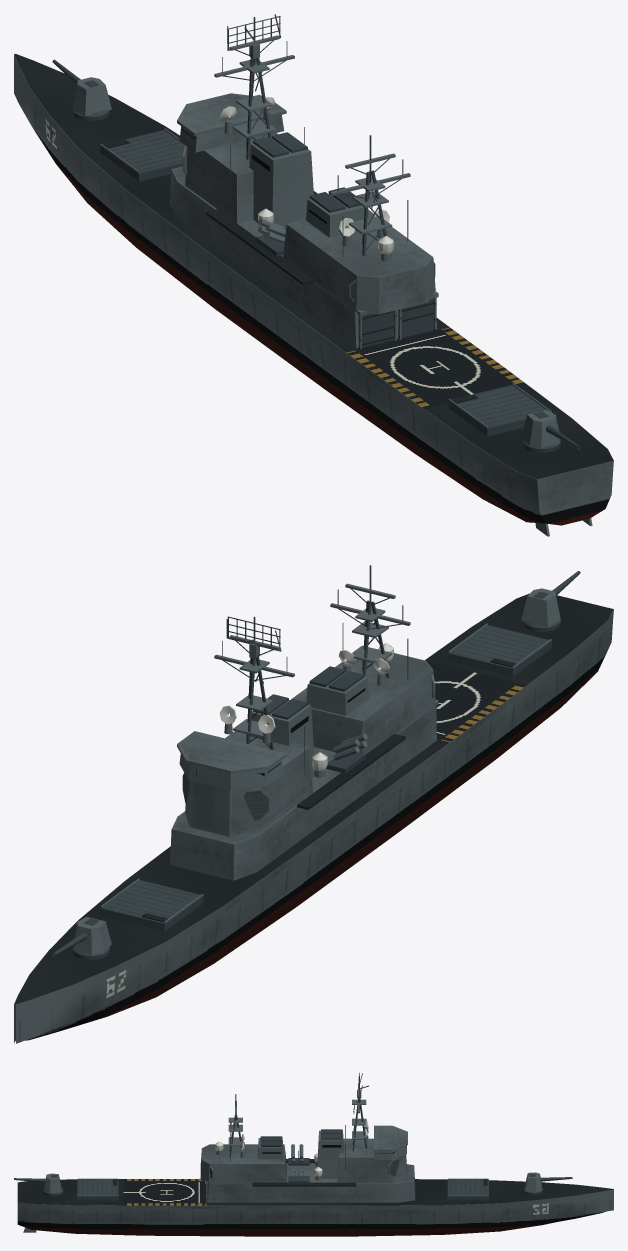
Rendered from missile_cruiser_lod1.glb.
The picture shows the model from 3 angles, top to bottom: view 1: azimuth 30°, elevation 25°; view 2: azimuth 150°, elevation 25°; view 3: azimuth 270°, elevation 25°; orthographic projection. The views are drawn at different scales.
Parts seen in each view (by area): view 1: hull, deck, superstructure, launchers, stacks, masts, radars, hangar, forward_gun, aft_gun; view 2: hull, superstructure, deck, launchers, masts, stacks, radars, aft_gun, forward_gun; view 3: hull, superstructure, deck, launchers, stacks, masts, radars, aft_gun, forward_gun.
Boxes of the visible parts, box(x1,y1,x2,y2) form: hull: box(14, 54, 613, 536); deck: box(14, 54, 613, 479); superstructure: box(170, 115, 437, 348); launchers: box(100, 128, 551, 436); stacks: box(249, 132, 368, 237); masts: box(214, 17, 410, 255); radars: box(182, 14, 435, 301); hangar: box(357, 291, 438, 349); forward_gun: box(52, 59, 111, 120); aft_gun: box(521, 410, 580, 452); hull: box(14, 609, 613, 1043); superstructure: box(170, 653, 437, 880); deck: box(14, 593, 613, 1004); launchers: box(100, 623, 551, 931); masts: box(214, 565, 410, 750); stacks: box(250, 666, 369, 777); radars: box(182, 616, 435, 821); aft_gun: box(521, 571, 580, 631); forward_gun: box(52, 917, 111, 959); hull: box(17, 1125, 613, 1236); superstructure: box(200, 1138, 415, 1202); deck: box(17, 1179, 613, 1205); launchers: box(77, 1144, 488, 1200); stacks: box(258, 1129, 343, 1178); masts: box(228, 1076, 367, 1157); radars: box(210, 1073, 399, 1180); aft_gun: box(14, 1173, 63, 1196); forward_gun: box(523, 1172, 572, 1195).
Bounding box in the file's own units: 4.52 × 11.86 × 42.26.
1 material, 1 textured.
